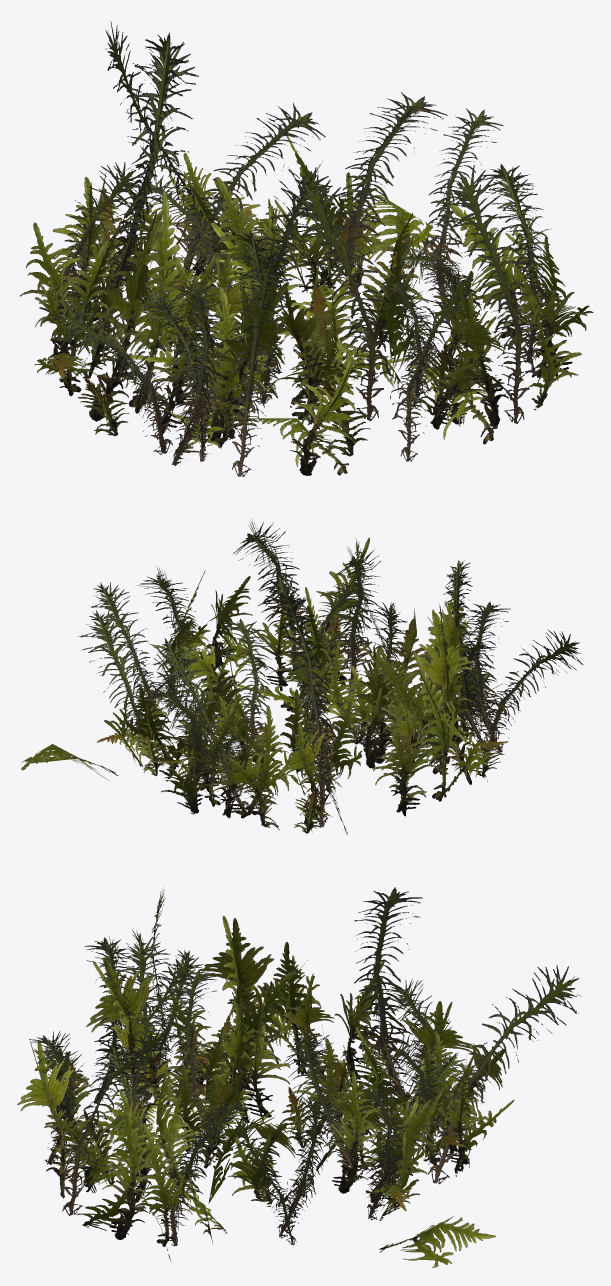
File: musgo.glb
The picture shows the model from 3 angles, top to bottom: view 1: azimuth 30°, elevation 25°; view 2: azimuth 150°, elevation 25°; view 3: azimuth 270°, elevation 25°; orthographic projection. The views are drawn at different scales.
Parts seen in each view (by area): view 1: musgo_b, musgo_a, musgo_c; view 2: musgo_b, musgo_a, musgo_c; view 3: musgo_c, musgo_b, musgo_a.
Part boxes in pixels (x1,y1,x2,y2): musgo_b: (34,32,542,476); musgo_a: (20,92,593,465); musgo_c: (49,21,587,475); musgo_b: (132,519,583,834); musgo_a: (78,537,510,830); musgo_c: (21,547,502,833); musgo_c: (69,953,580,1267); musgo_b: (33,887,487,1215); musgo_a: (17,930,504,1261).
Bounding box in the file's own units: 0.3487 × 0.1912 × 0.3557.
1 material, 1 textured.
